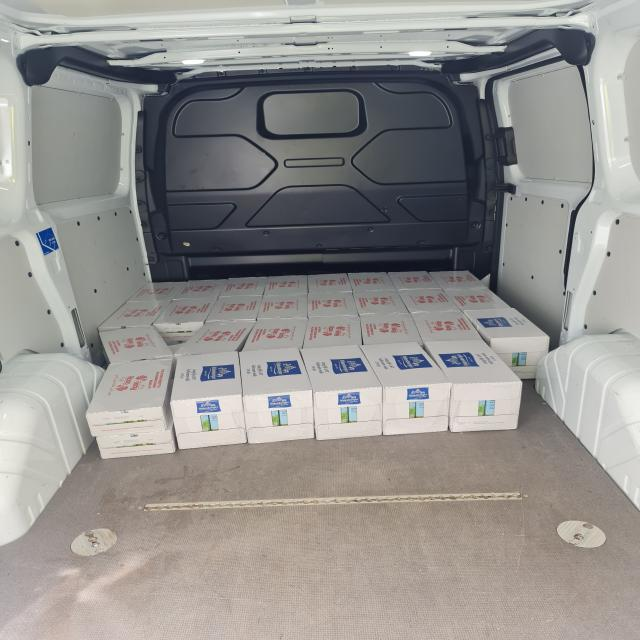Carton: (353, 290, 522, 436), (99, 273, 352, 364), (302, 315, 383, 440), (85, 359, 176, 460), (241, 349, 314, 445), (170, 398, 246, 448), (172, 352, 241, 402), (430, 270, 511, 310), (388, 271, 461, 313), (465, 308, 550, 338), (307, 292, 359, 316), (347, 273, 397, 291)
